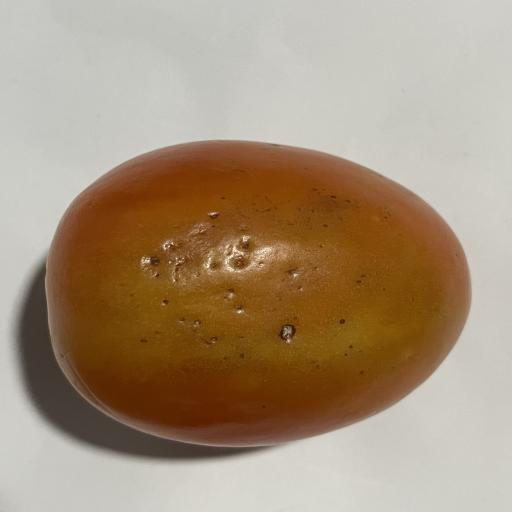unripe: (46, 141, 470, 447)
